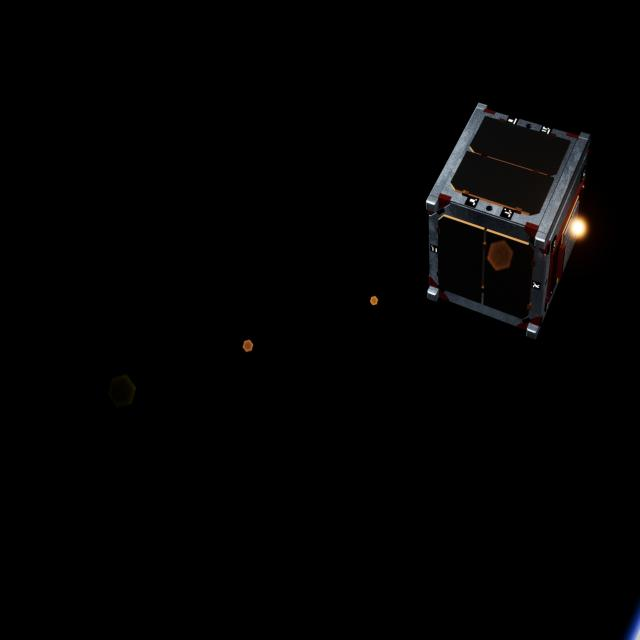satellite: (424, 95, 600, 366)
